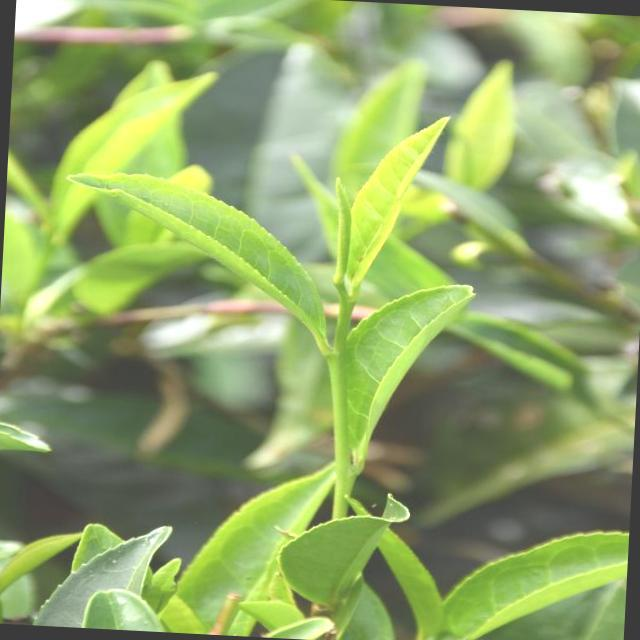Stem: (329, 351, 346, 371)
